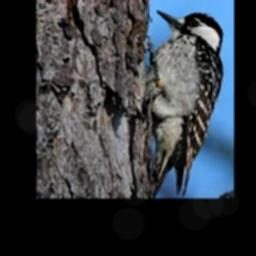Woodpecker: (125, 10, 224, 198)
